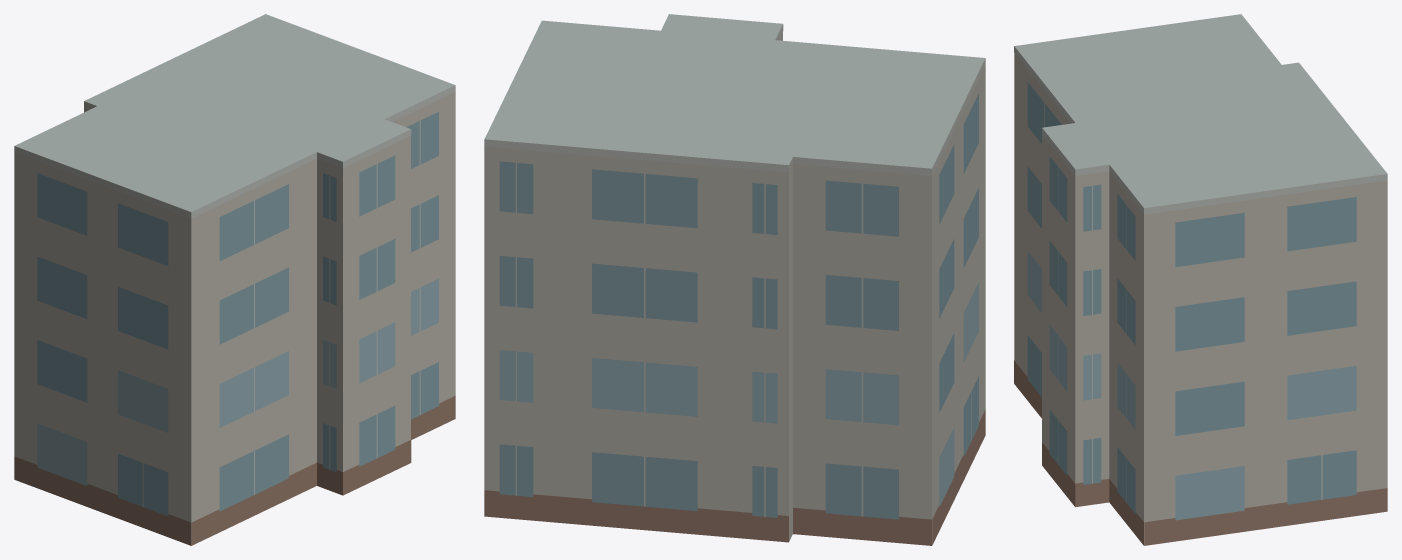
File: survey-upis-32936708.glb
The picture shows the model from 3 angles, left to right: view 1: azimuth 30°, elevation 25°; view 2: azimuth 150°, elevation 25°; view 3: azimuth 270°, elevation 25°; orthographic projection. The views are drawn at different scales.
Parts seen in each view (by area): view 1: survey-upis-32936708.tmp; view 2: survey-upis-32936708.tmp; view 3: survey-upis-32936708.tmp.
Part boxes in pixels (box(x1,y1,x2,y2)): survey-upis-32936708.tmp: box(14, 14, 455, 545); survey-upis-32936708.tmp: box(484, 14, 985, 545); survey-upis-32936708.tmp: box(1014, 14, 1387, 545).
Bounding box in the file's own units: 15.67 × 12.7 × 12.74.
